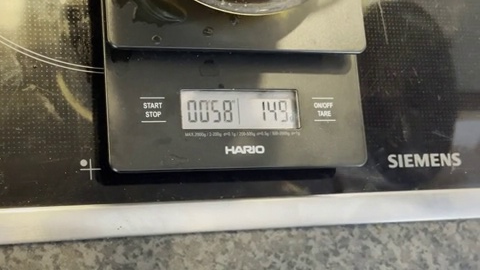display: (181, 90, 298, 128)
